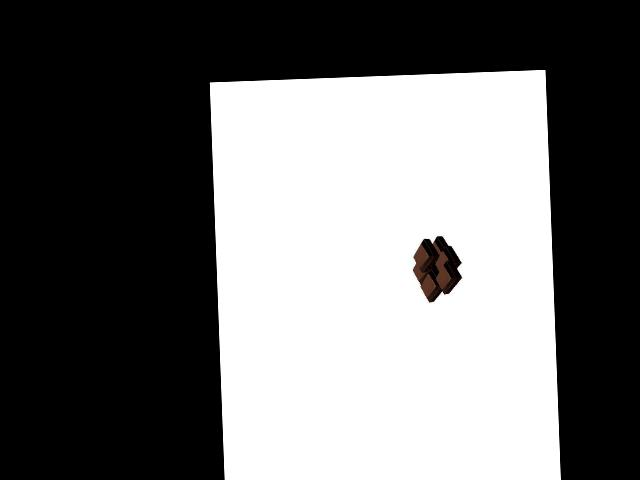chocolate: (409, 233, 460, 302)
